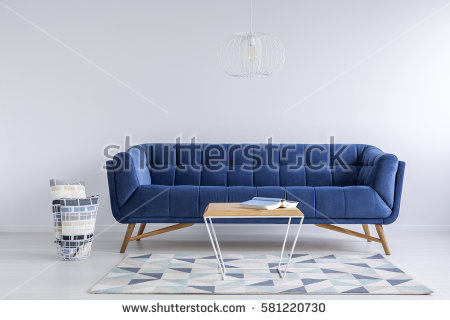chairs: (106, 142, 406, 260)
